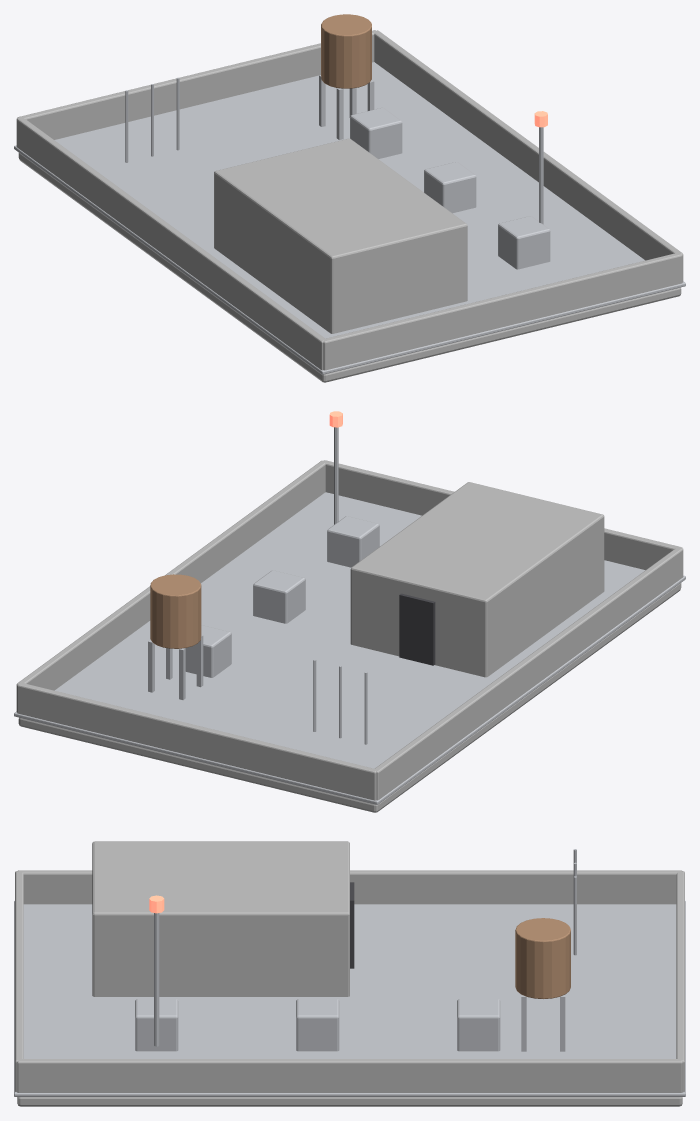
The model's file is roof_4x6_mech_concrete.glb.
3 renders of one model, top to bottom at view 1: azimuth 30°, elevation 25°; view 2: azimuth 150°, elevation 25°; view 3: azimuth 270°, elevation 25°, orthographic. The views are drawn at different scales.
Visible parts, largest first — view 1: int_slab_edge, ext_parapet, ext_penthouse, ext_ac, int_slab, ext_tank, ext_tank_legs; view 2: int_slab_edge, ext_parapet, ext_penthouse, ext_ac, int_slab, ext_tank, ext_penthouse_door, ext_tank_legs; view 3: int_slab_edge, ext_parapet, ext_penthouse, ext_ac, int_slab, ext_tank, ext_mast, ext_tank_legs, ext_penthouse_door.
Part boxes in pixels (x1,y1,x2,y2): int_slab_edge: (14,62,685,374); ext_parapet: (16,30,683,370); ext_penthouse: (214,138,467,333); ext_ac: (350,107,550,269); int_slab: (18,153,681,382); ext_tank: (321,14,371,88); ext_tank_legs: (319,75,374,139); int_slab_edge: (14,492,685,804); ext_parapet: (16,460,683,800); ext_penthouse: (350,482,604,677); ext_ac: (185,516,379,677); int_slab: (18,583,681,812); ext_tank: (150,574,201,648); ext_penthouse_door: (399,593,435,665); ext_tank_legs: (148,635,203,699); int_slab_edge: (14,901,685,1096); ext_parapet: (15,870,684,1092); ext_penthouse: (92,841,349,996); ext_ac: (135,999,500,1051); int_slab: (17,1097,682,1106); ext_tank: (515,918,570,998); ext_mast: (154,913,159,1046); ext_tank_legs: (521,994,565,1051); ext_penthouse_door: (350,882,354,968).
Bounding box in the file's own units: 4.26 × 1.73 × 6.26.
